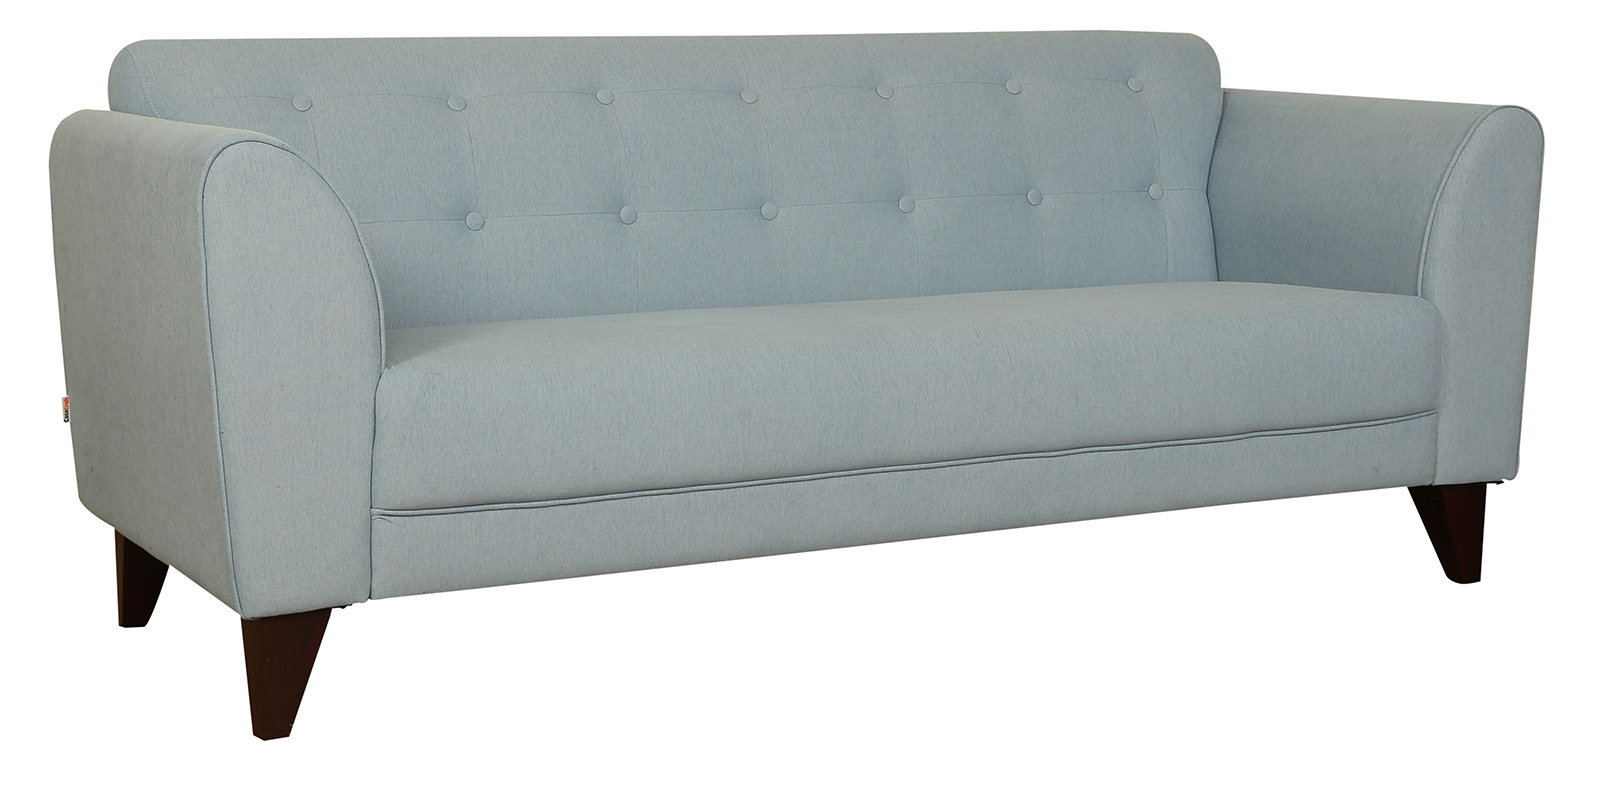Belem Three Seater Sofa in Ice Blue Color by CasaCraft: (28, 20, 1600, 677)
